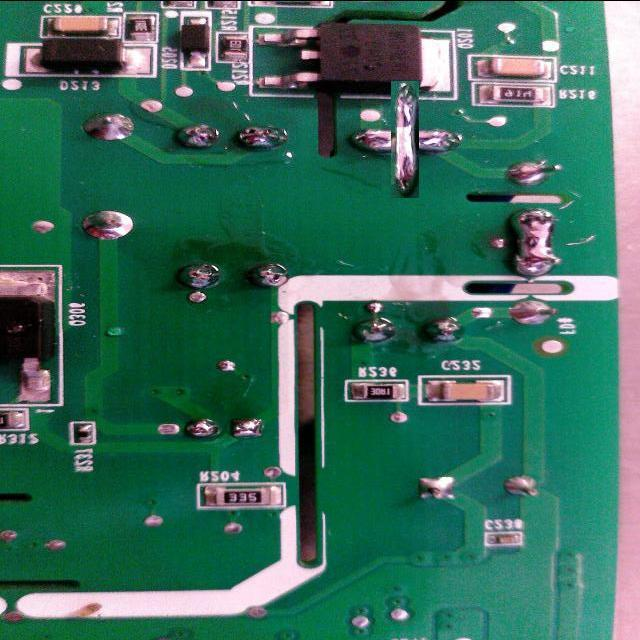Short_circuit: (368, 102, 442, 176), (504, 204, 565, 280)
